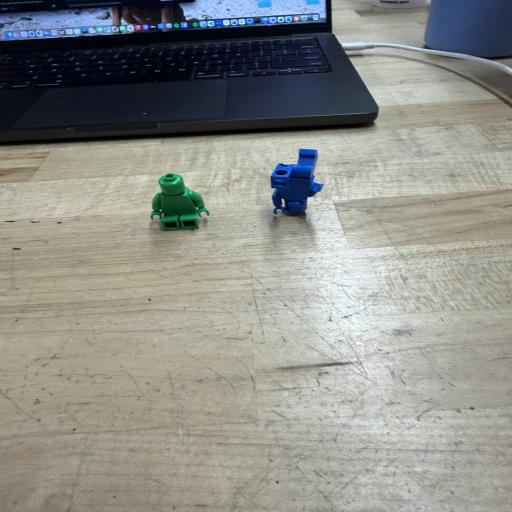blue-minifig: (271, 149, 323, 214)
green-minifig: (151, 173, 209, 230)
